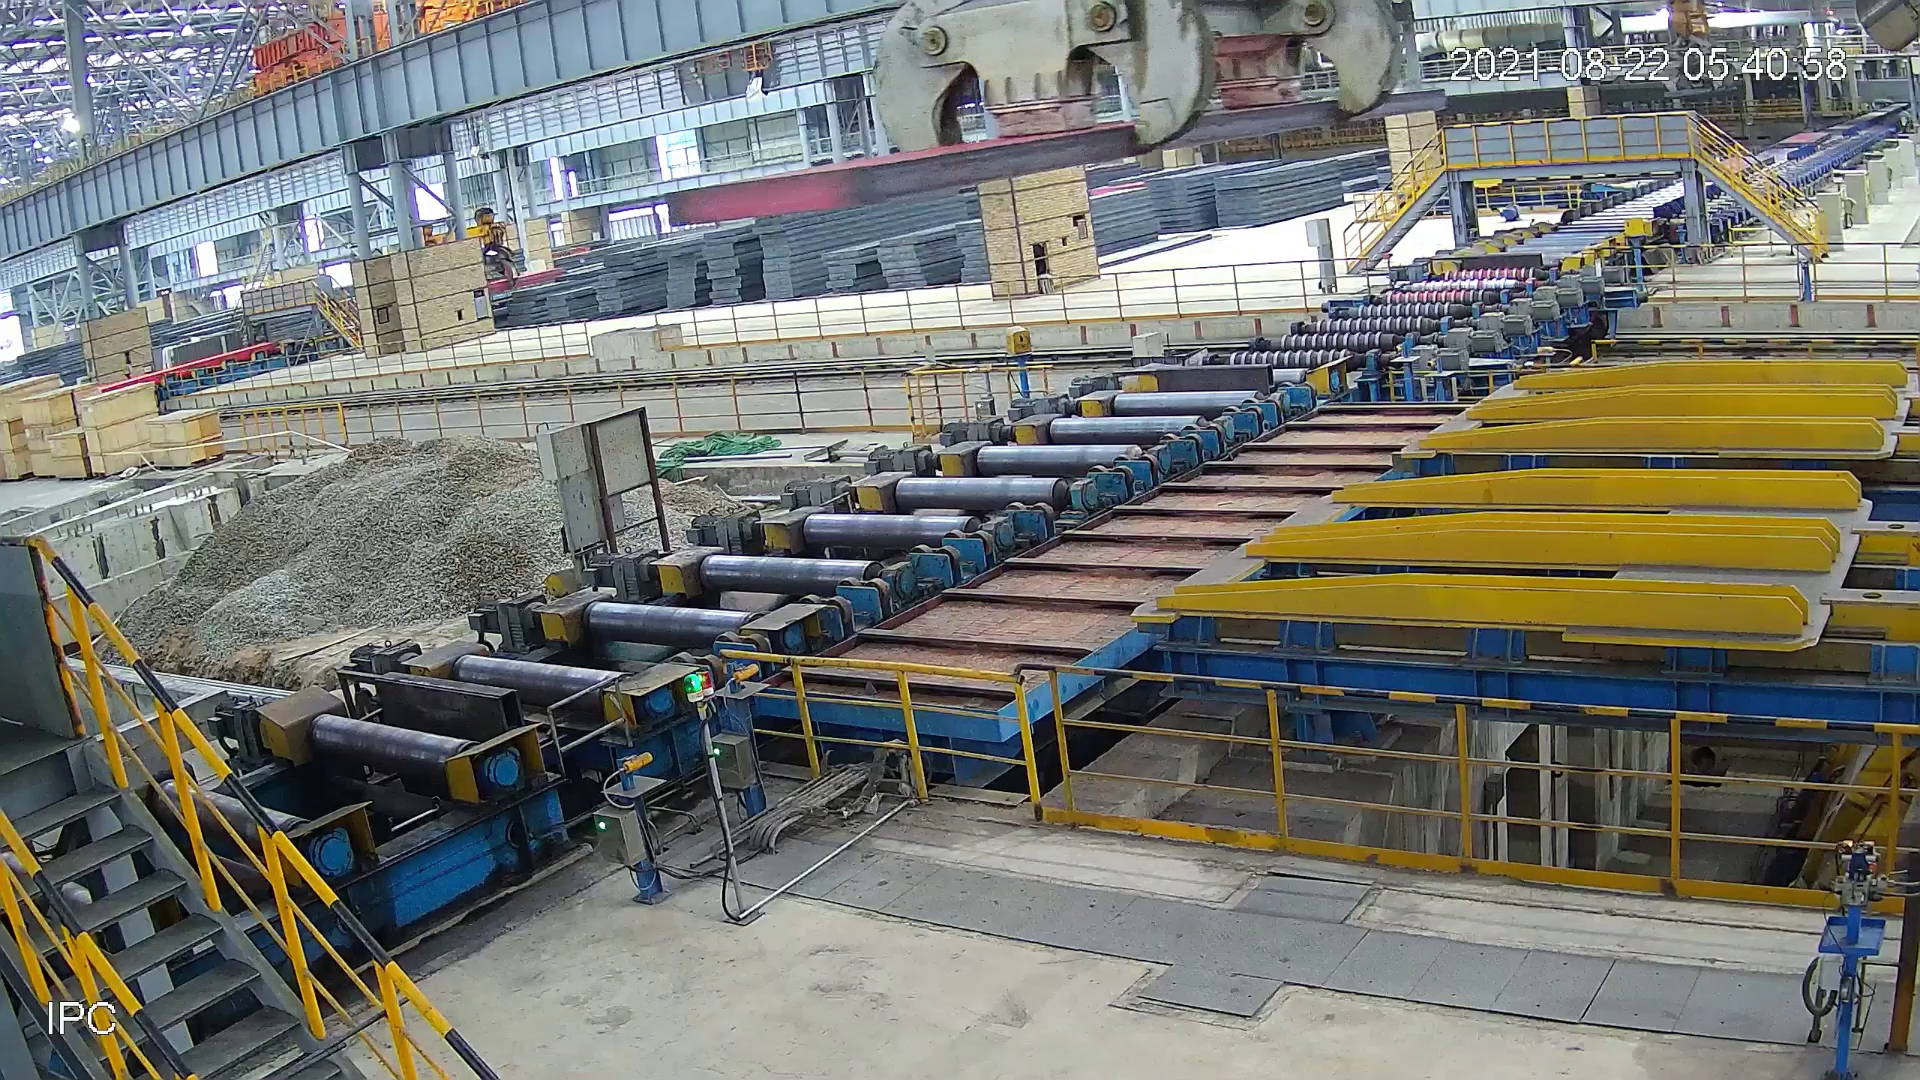craneandslab: (646, 1, 1468, 231), (1650, 1, 1745, 108)
